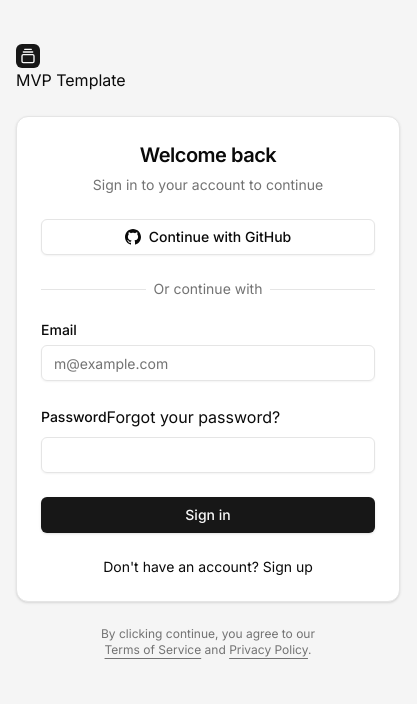
Test: SignInPage › shows validation error for invalid email
Type "invalid-email" into the field labelled "Email" at x=208, y=363, box [41, 345, 375, 381]
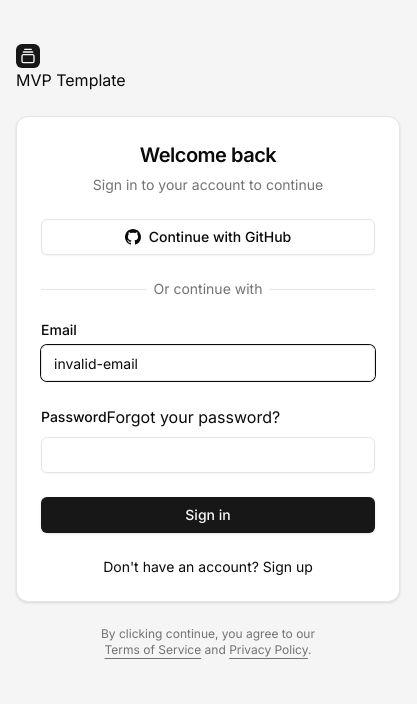
Click the button "Sign in" at x=208, y=515, box [41, 497, 375, 533]
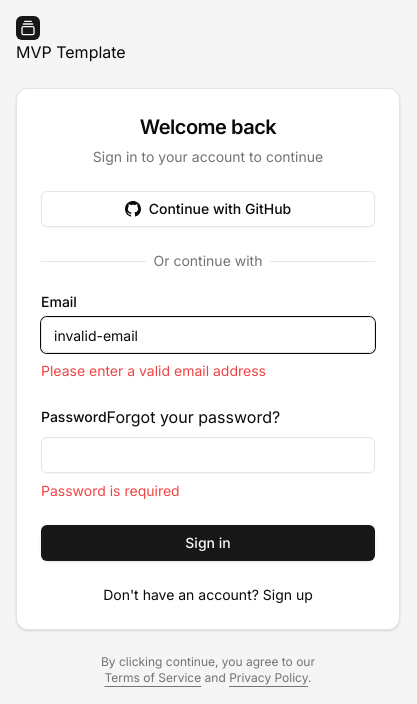
Result: the text "Please enter a valid email address" is shown at [41, 362, 266, 379]
